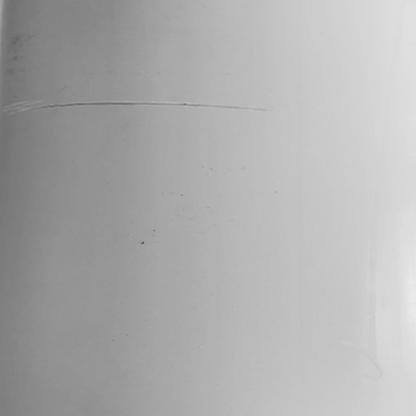sunshang: (1, 94, 268, 119)
